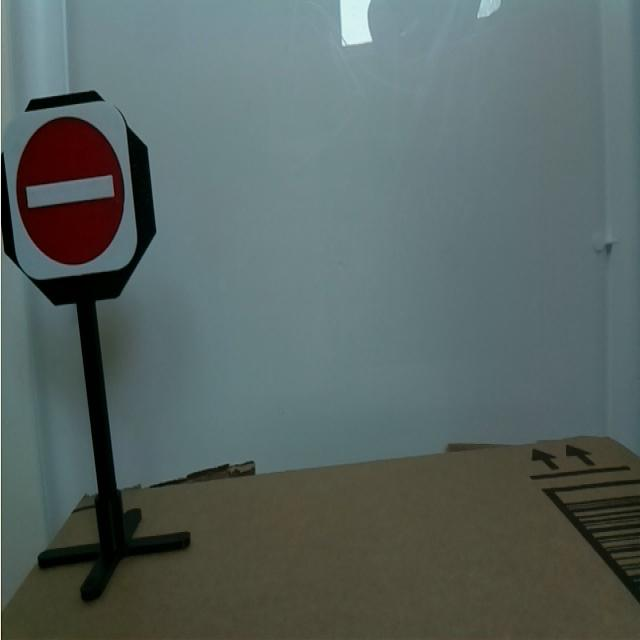sign_noentry: (2, 99, 139, 279)
